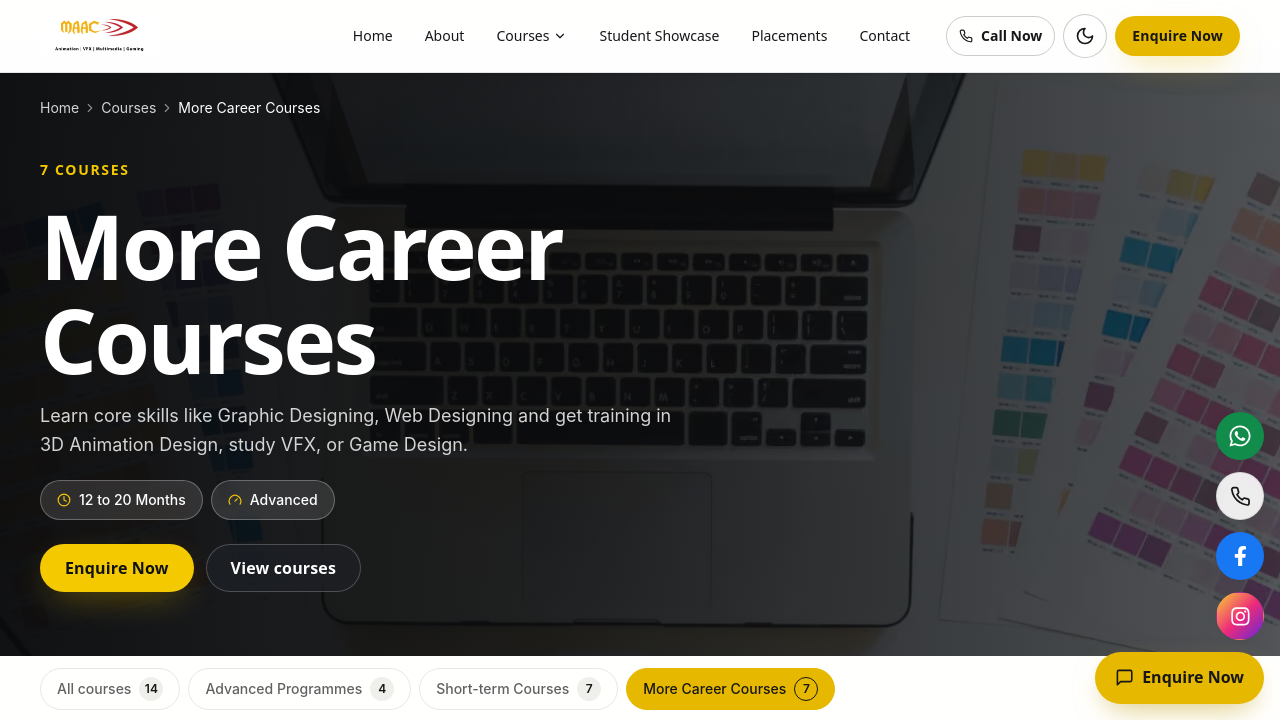
Test: the floating Enquire Now button on /MoreCareerCoursesPage opens the pop-up form preselected
Expected: the heading "More Career Courses" is shown, x1=40 y1=184 x2=562 y2=400
Click the 3rd button "Enquire Now" at (1180, 678), box x1=1095 y1=652 x2=1264 y2=704
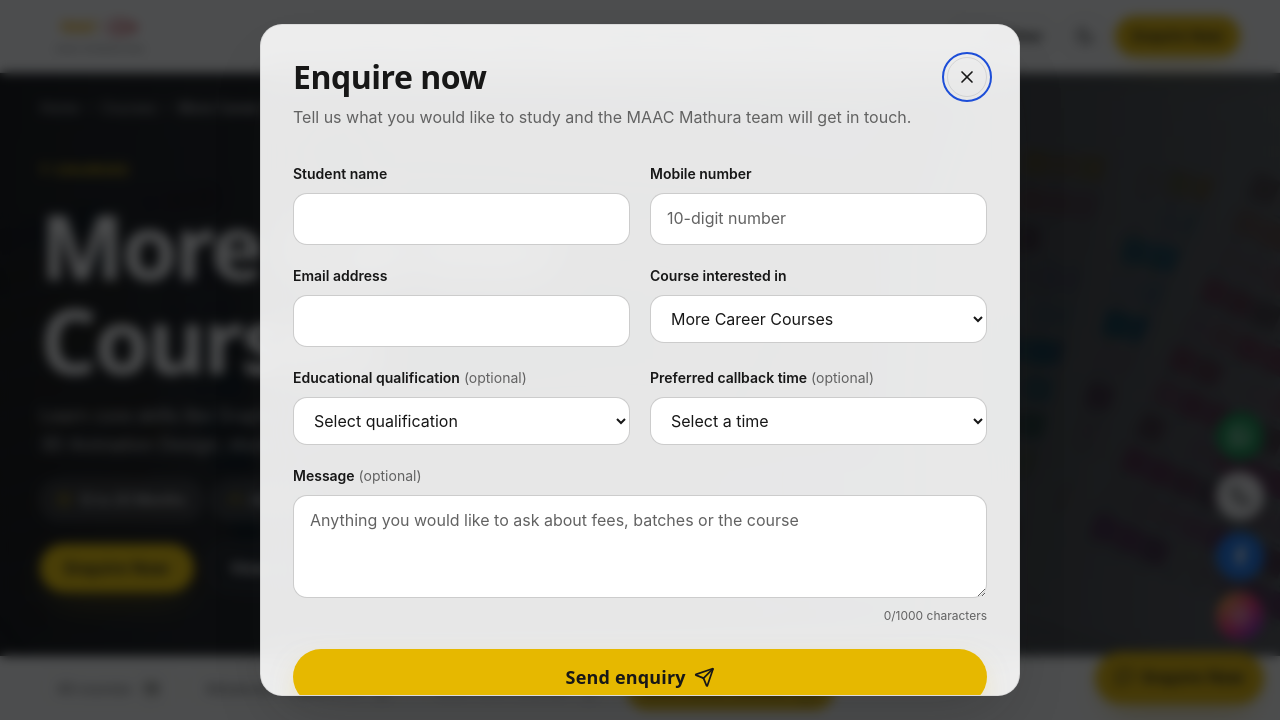
Expected: the dropdown labelled "Course interested in" shows "More Career Courses", x1=650 y1=295 x2=987 y2=343
Expected: the dropdown labelled "Educational qualification (optional)" is shown, x1=293 y1=397 x2=630 y2=445
